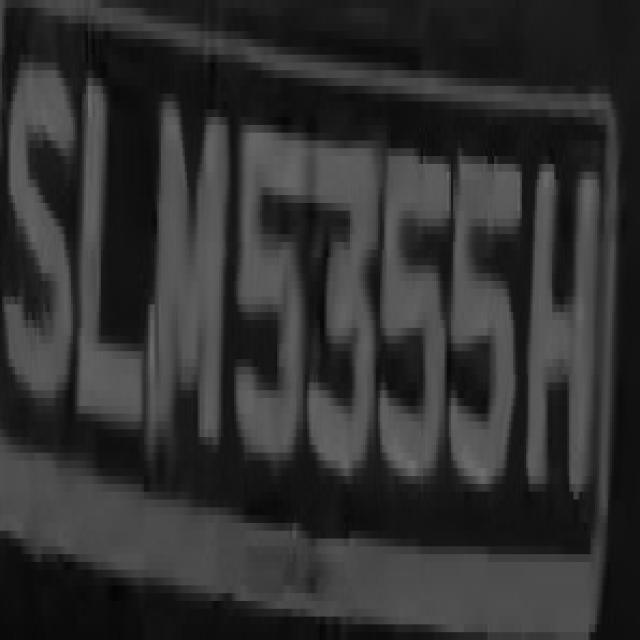3: (314, 117, 380, 500)
5: (444, 109, 522, 539), (236, 78, 312, 500), (378, 110, 440, 508)
H: (528, 94, 597, 515)
L: (69, 31, 148, 445)
M: (150, 78, 232, 484)
S: (4, 39, 69, 437)
